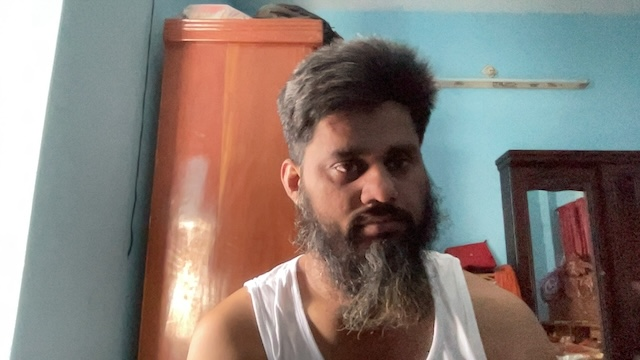Helmet: (265, 39, 453, 300)
